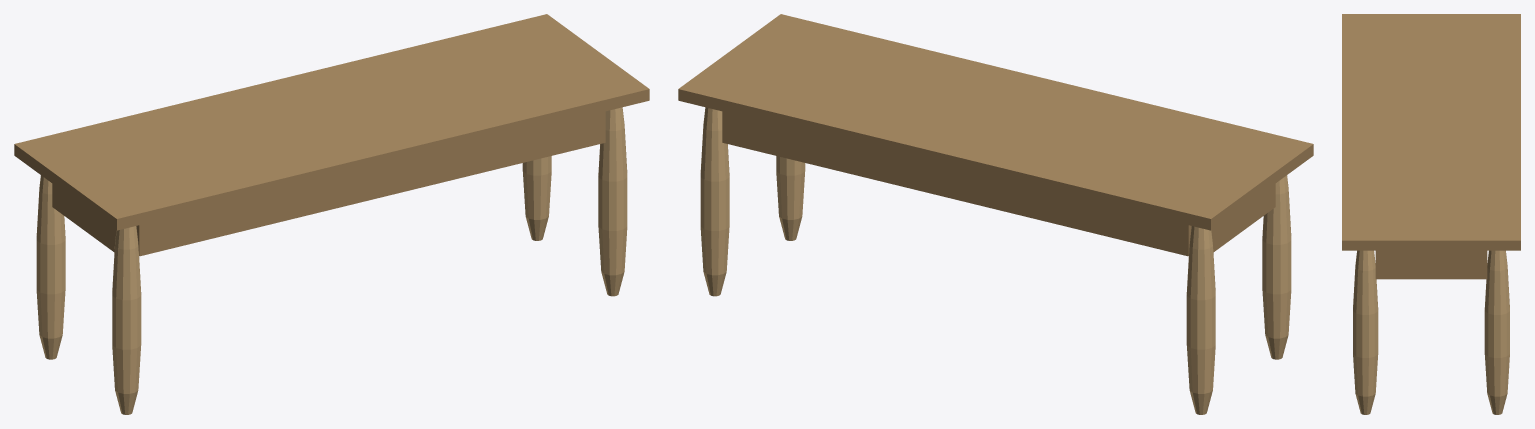
File: SAB-BEN-std.glb
3 views of the same model, side by side, from view 1: azimuth 30°, elevation 25°; view 2: azimuth 150°, elevation 25°; view 3: azimuth 270°, elevation 25° (orthographic). The views are drawn at different scales.
Parts seen in each view (by area): view 1: top:pbr, apron-f:pbr, leg-fl:pbr, leg-fr:pbr, leg-bl:pbr, leg-br:pbr, apron-l:pbr; view 2: top:pbr, apron-b:pbr, leg-bl:pbr, leg-br:pbr, leg-fl:pbr, leg-fr:pbr, apron-l:pbr; view 3: top:pbr, leg-fr:pbr, leg-br:pbr, apron-r:pbr.
Boxes of the visible parts, x1,y1,x2,y2 form: top:pbr: (14, 14, 649, 230); apron-f:pbr: (136, 111, 605, 256); leg-fl:pbr: (112, 226, 141, 414); leg-fr:pbr: (598, 107, 627, 296); leg-bl:pbr: (36, 175, 65, 359); leg-br:pbr: (522, 156, 551, 240); apron-l:pbr: (52, 183, 116, 252); top:pbr: (678, 14, 1313, 230); apron-b:pbr: (722, 111, 1191, 256); leg-bl:pbr: (1186, 226, 1215, 414); leg-br:pbr: (700, 107, 729, 296); leg-fl:pbr: (1262, 175, 1291, 359); leg-fr:pbr: (776, 156, 805, 240); apron-l:pbr: (1211, 183, 1275, 252); top:pbr: (1342, 14, 1520, 250); leg-fr:pbr: (1353, 250, 1378, 414); leg-br:pbr: (1484, 250, 1509, 414); apron-r:pbr: (1375, 250, 1487, 279).
Bounding box in the file's own units: 1.2 × 0.45 × 0.4.
